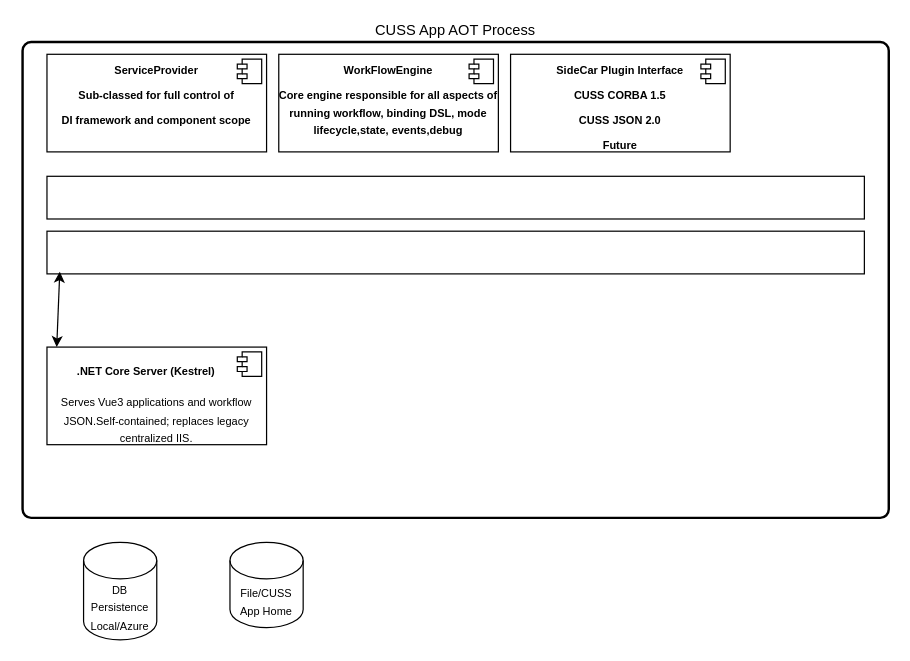
Some shapes in this 910 by 661 pixel diagram are drawn without their labels. The shapes that lost their labels are listed below. From the top down, each one's centre as x and y in pixels, then its label:
(x=455, y=197): Event BusInternal event distribution between components
(x=455, y=252): Command Bus Used for action/message dispatch across subsystems
